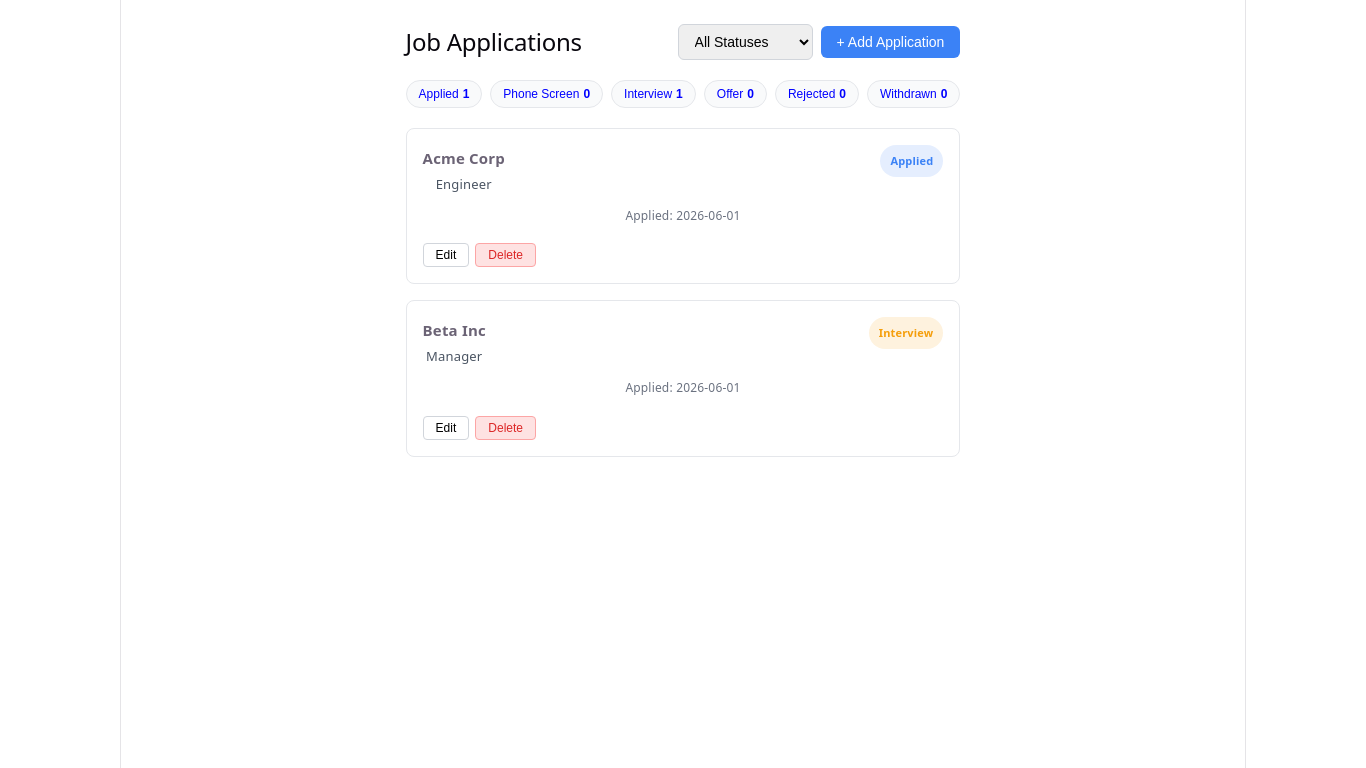
Scenario: ApplicationsPage › filters the grid by status via the dropdown
Check: the text "Acme Corp" is shown, box [423, 145, 505, 171]
Select "Interview" in the dropdown: (745, 42) [678, 24, 813, 60]
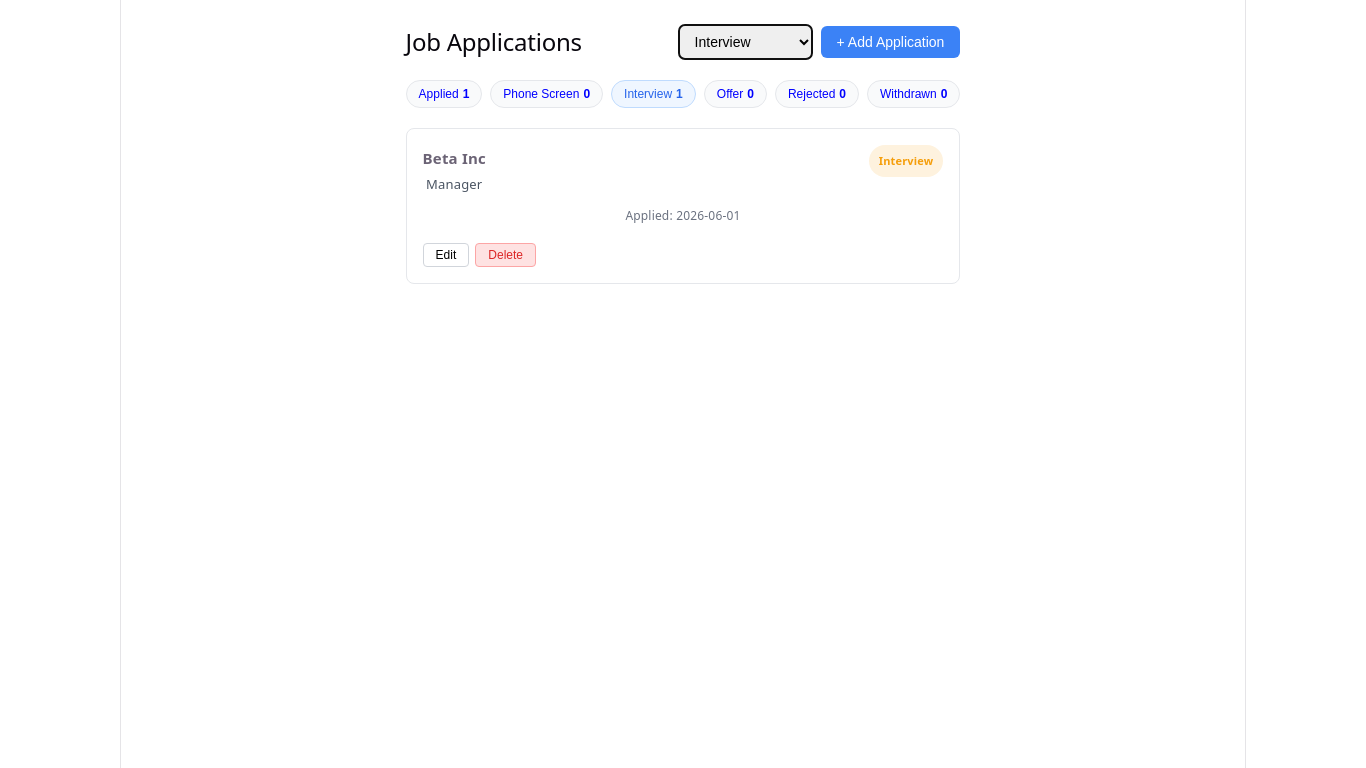
Check: the text "Beta Inc" is shown, box [423, 145, 486, 171]
Check: the text "Acme Corp" is gone
